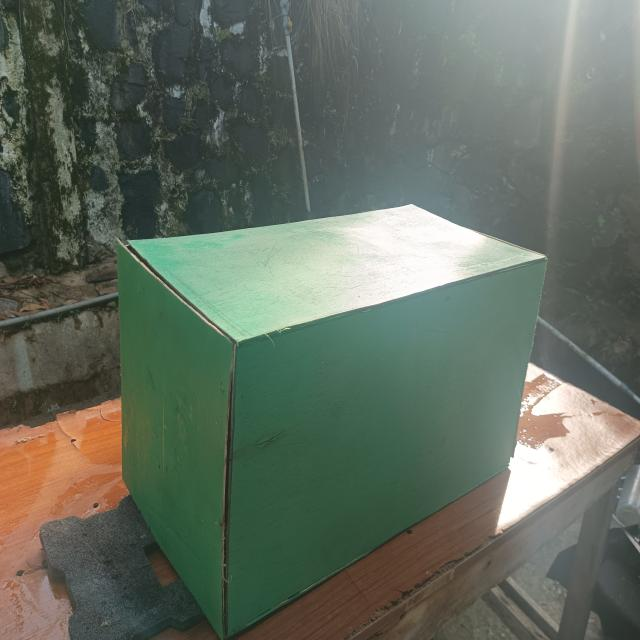green_box: (86, 166, 554, 640)
